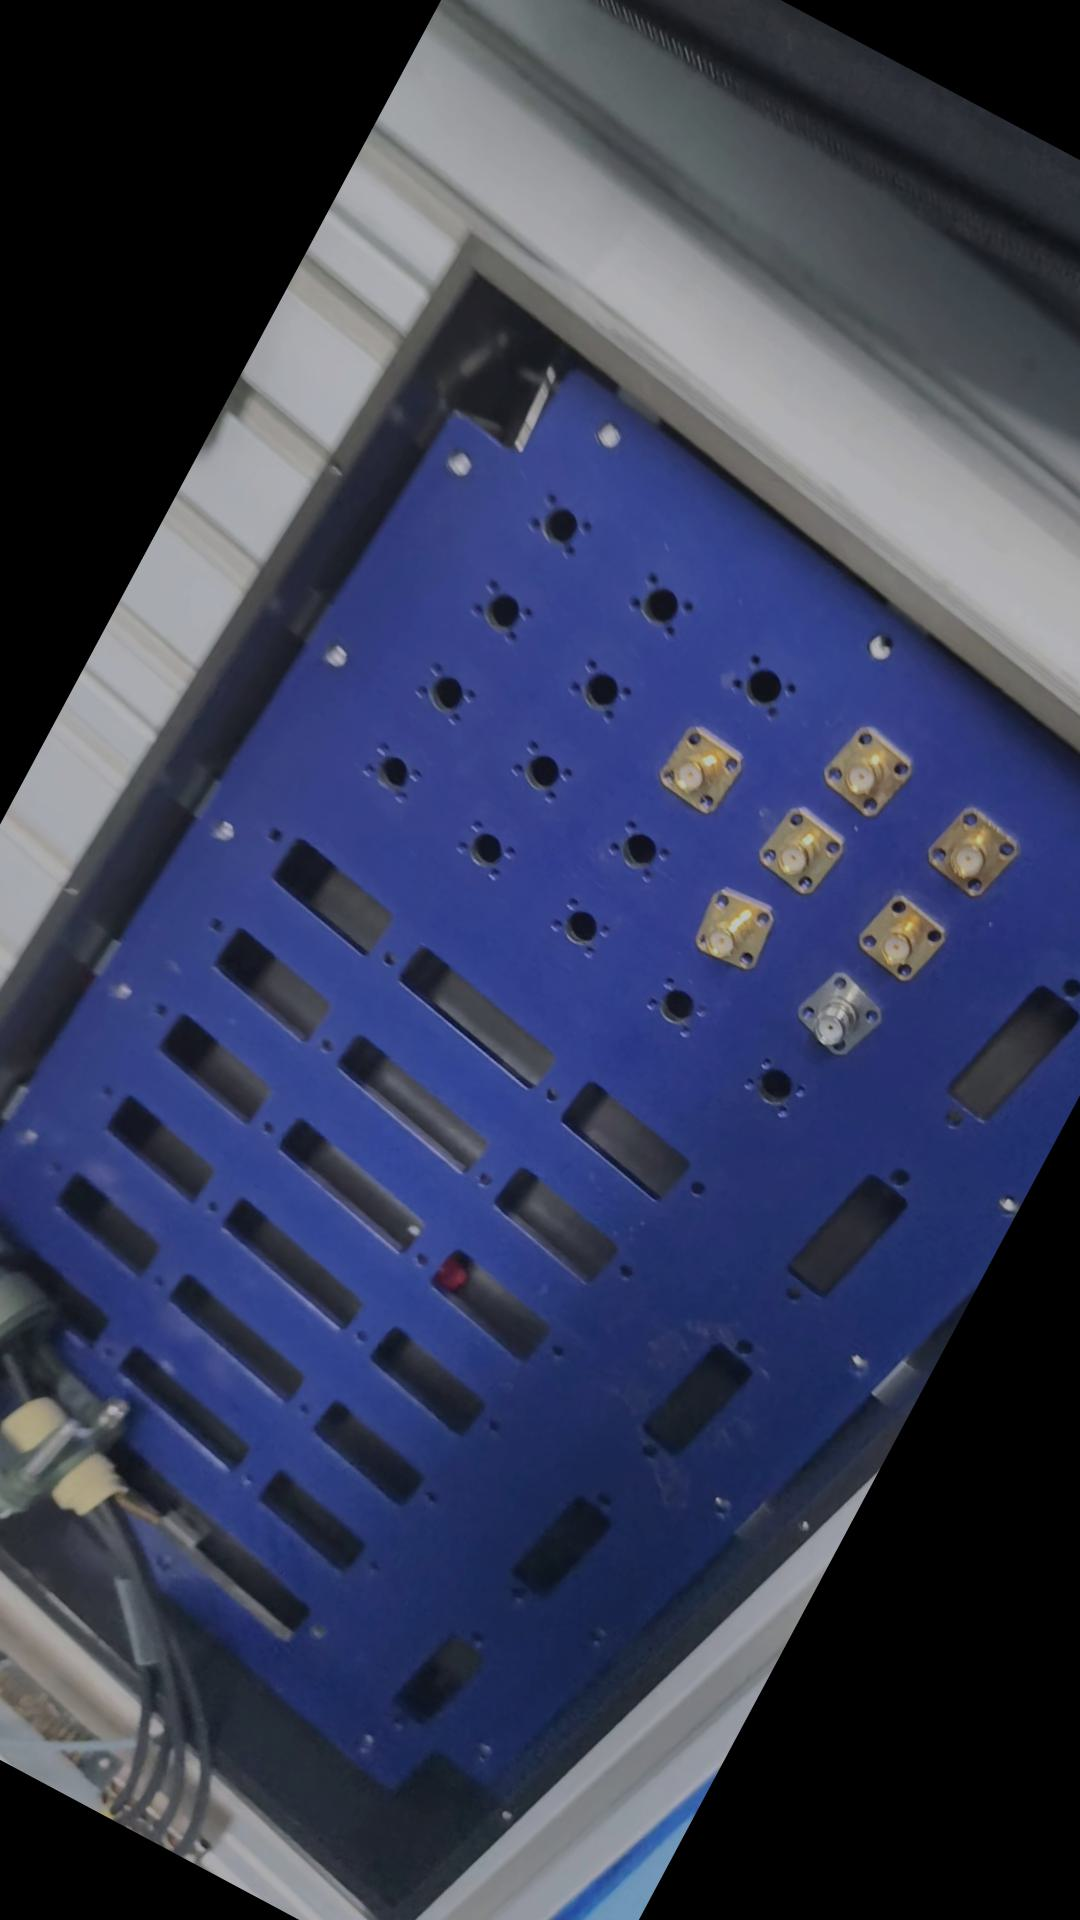SMA: (913, 791, 1033, 906), (806, 713, 924, 825), (642, 713, 748, 823), (679, 876, 783, 980), (845, 887, 951, 989), (789, 963, 894, 1063), (750, 800, 852, 899)
